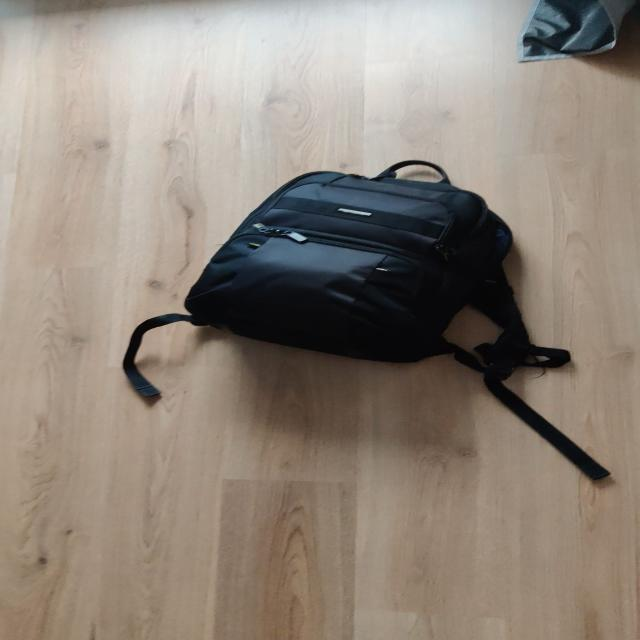backpack: (178, 154, 532, 370)
